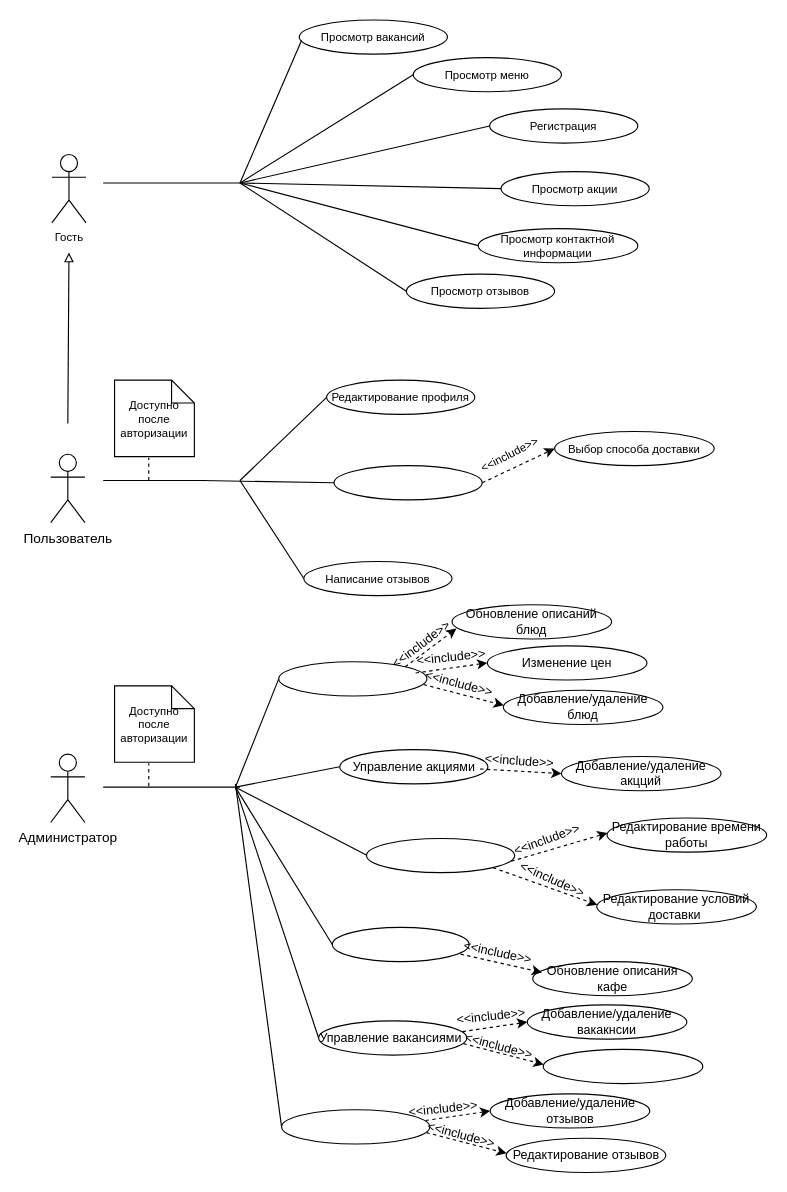
Image size: 787x1192. Some labels were removed from this diagram. Each missing label, with the box of its shape:
Обновление описаний вакансии условий: (542, 1048, 703, 1084)
Оформление заказа: (333, 465, 482, 500)
Управление главной страницей: (331, 926, 469, 962)
Управление д оставкой»: (365, 837, 515, 873)
Управление меню: (278, 661, 427, 696)
Управление отзывами о блюдах: (280, 1109, 430, 1144)
